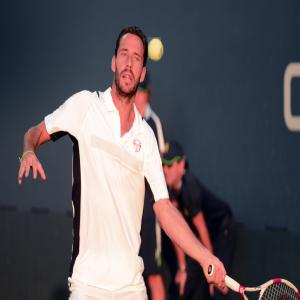TennisBall: (150, 38, 164, 61)
